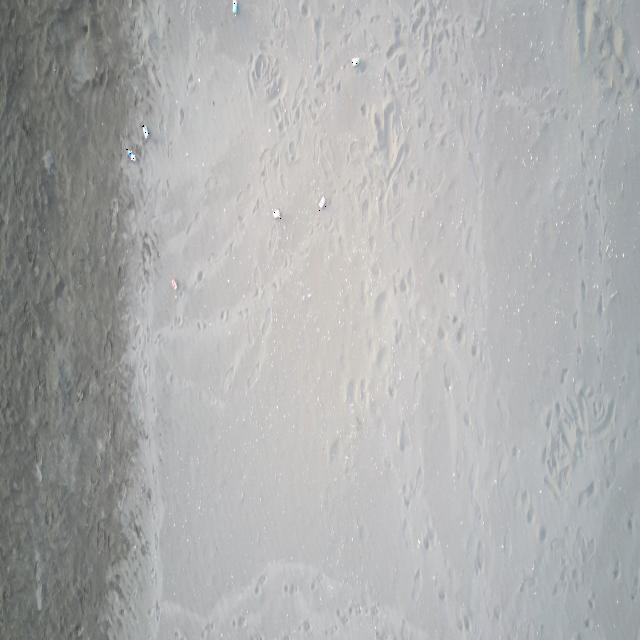Garbage: (125, 148, 135, 160), (141, 123, 148, 139), (319, 196, 326, 209), (272, 208, 280, 218), (232, 0, 238, 13), (169, 278, 176, 289), (352, 56, 360, 65)
